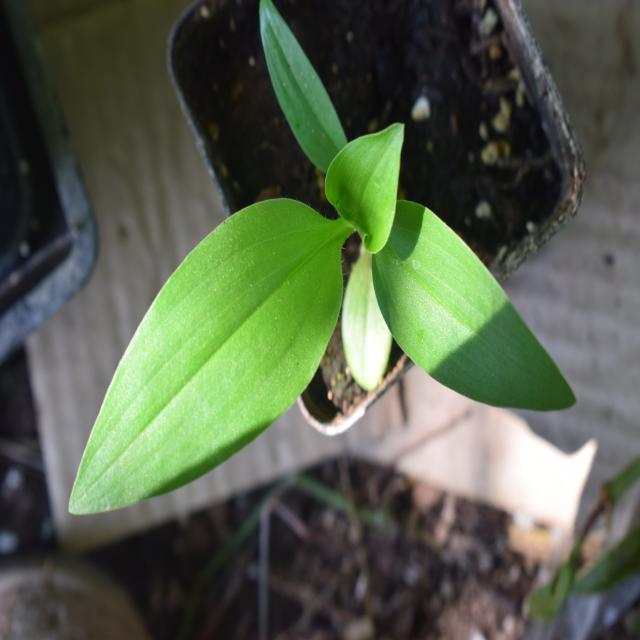Common Dayflower: (78, 100, 570, 526)
